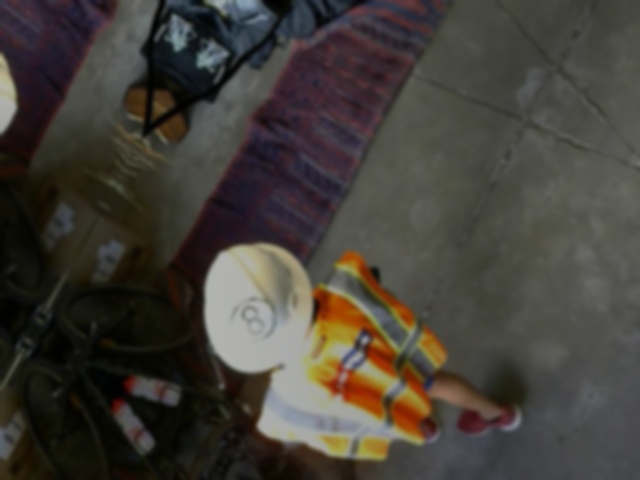eight: (223, 286, 281, 351)
